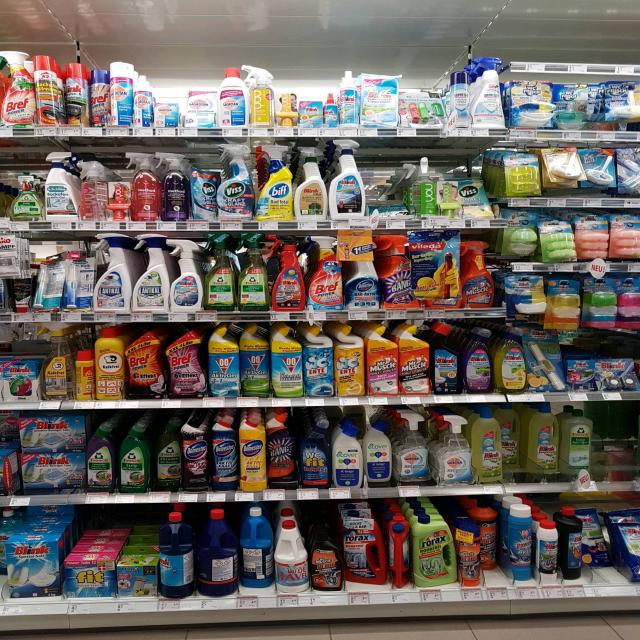empty: (365, 140, 408, 226)
